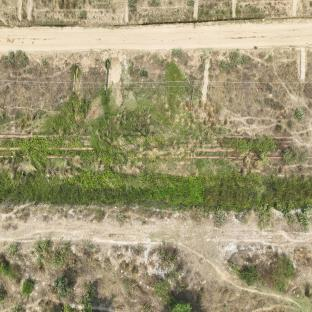slope_drain: (69, 66, 81, 121), (200, 58, 212, 105), (103, 56, 111, 97)
vegetation: (0, 108, 202, 206), (20, 97, 94, 176)
